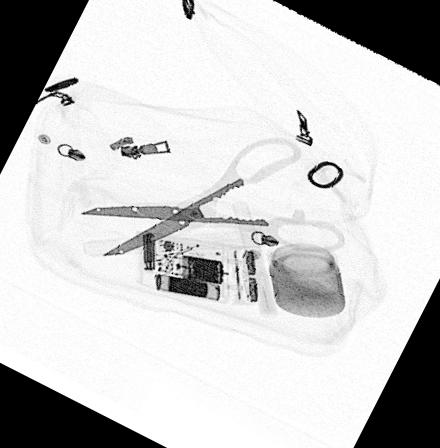Scissors: (76, 135, 344, 256)
